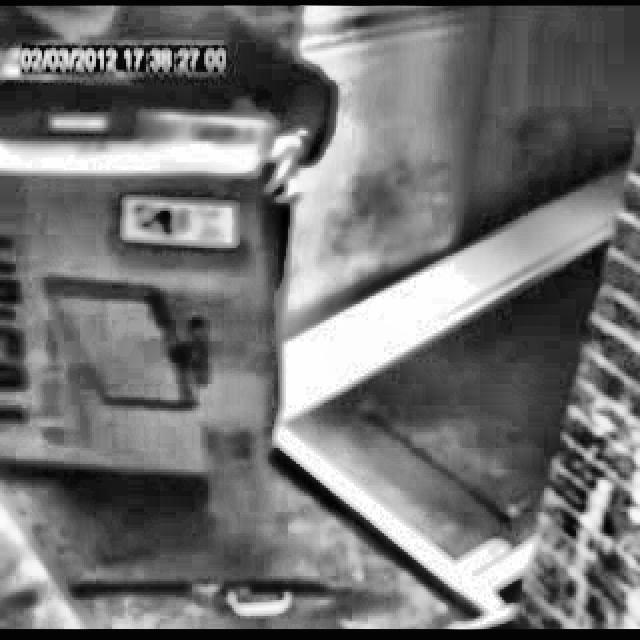burglary: (0, 6, 344, 556)
